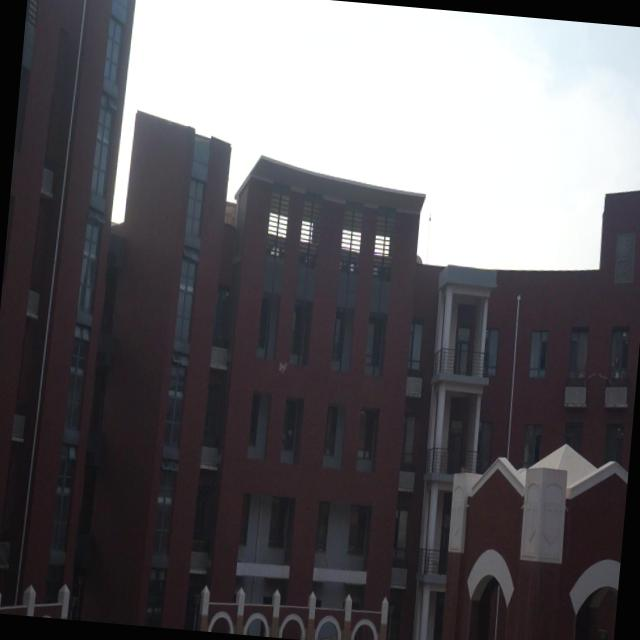drone: (274, 354, 292, 381)
